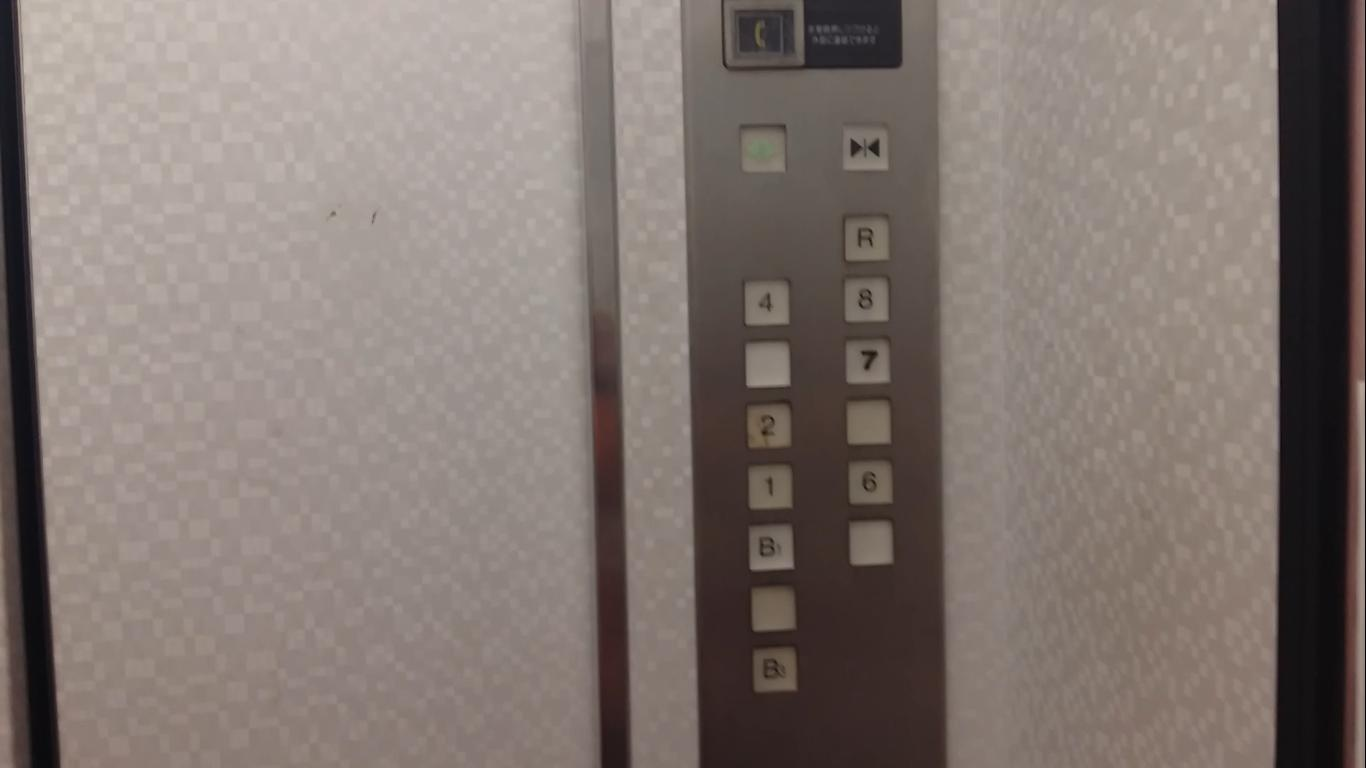1: (747, 461, 796, 511)
2: (744, 399, 793, 451)
4: (743, 278, 790, 326)
6: (846, 458, 895, 507)
7: (844, 333, 894, 385)
8: (841, 275, 894, 325)
B1: (747, 522, 798, 573)
B3: (749, 644, 800, 693)
R: (839, 210, 896, 266)
call: (734, 5, 792, 56)
close: (840, 120, 890, 171)
empty: (742, 339, 794, 389), (844, 396, 893, 447), (749, 582, 798, 633), (848, 518, 897, 568)
open: (736, 121, 793, 175)
